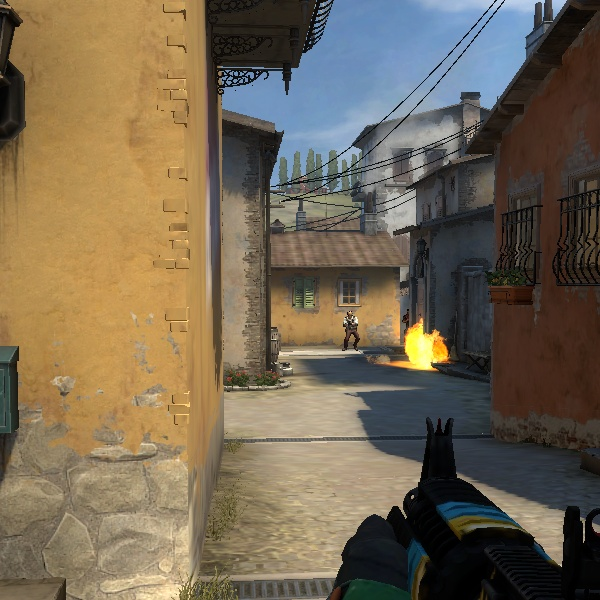t_body: (338, 313, 364, 350)
